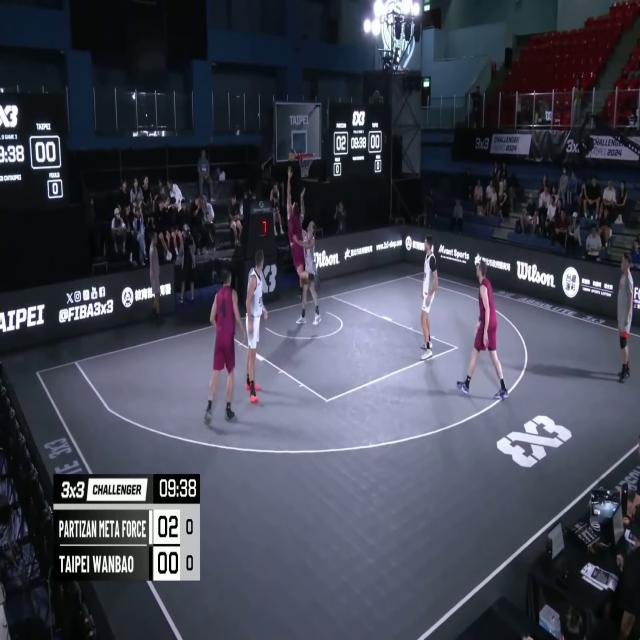ball: (288, 143, 298, 165)
hoop: (298, 150, 314, 181)
player: (457, 258, 510, 404), (204, 265, 246, 424), (282, 151, 322, 288), (291, 170, 321, 326), (245, 248, 269, 406), (420, 232, 437, 359)
